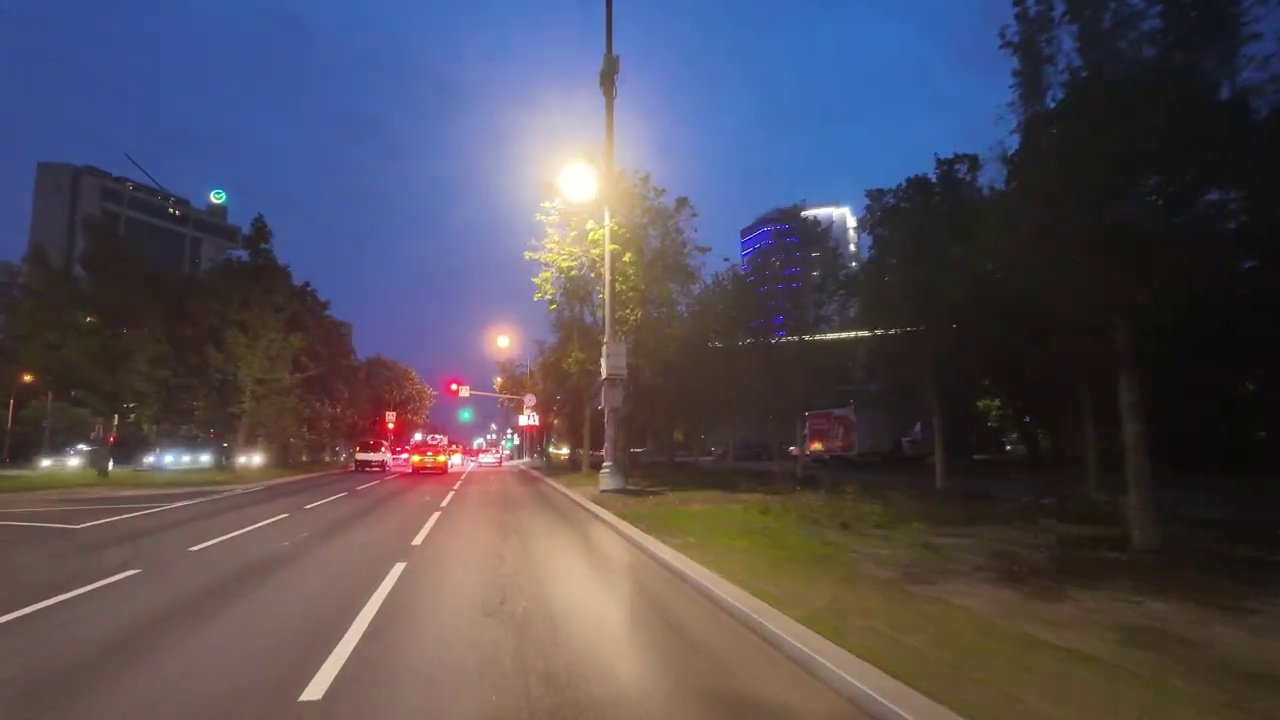acesa: (547, 153, 610, 215), (486, 325, 518, 357)
